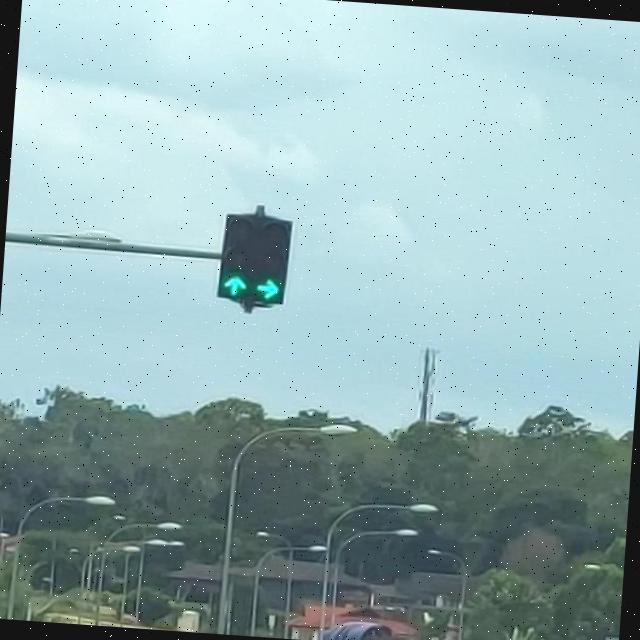green_light: (252, 212, 292, 305), (218, 210, 258, 302)
